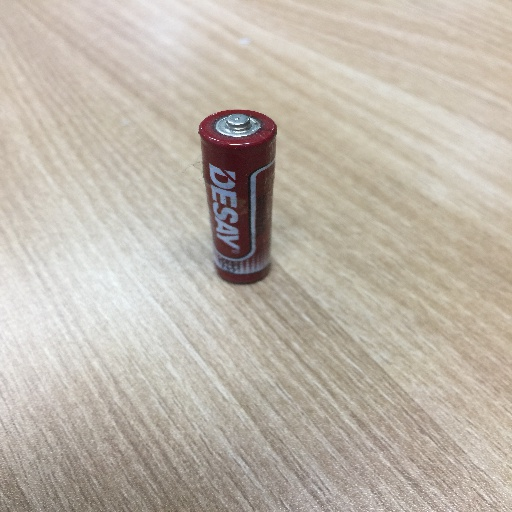Battery_0: (191, 93, 291, 292)
